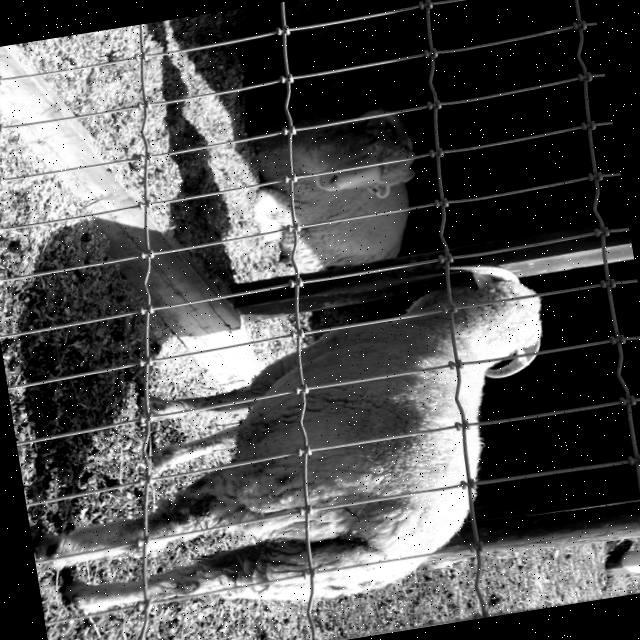sheep: (71, 264, 543, 611), (247, 98, 415, 275)
